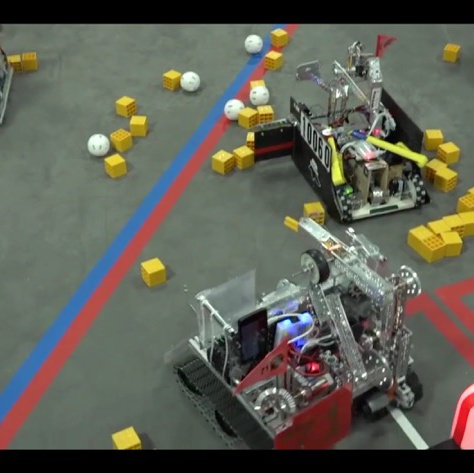robot: (171, 213, 425, 449), (254, 42, 435, 222)
